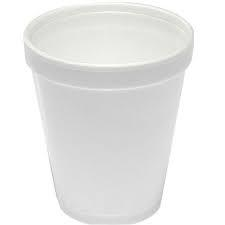Plastic cup: (26, 4, 193, 225)
